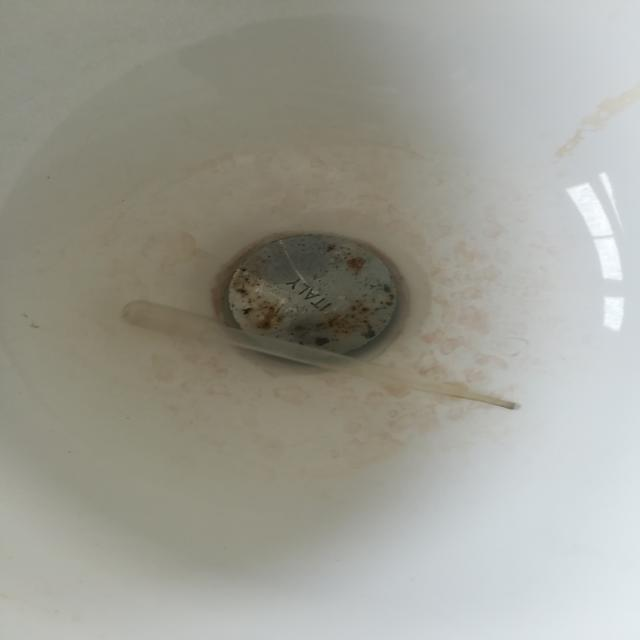Pipette: (114, 265, 548, 448)
